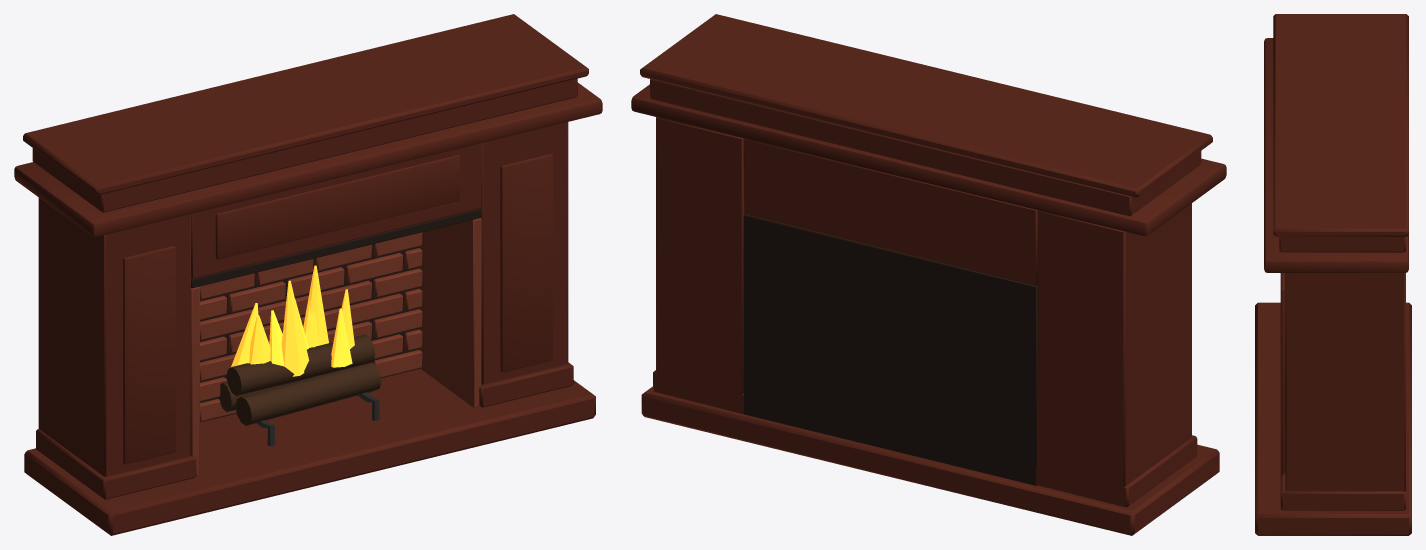
The model's file is Fireplace.glb.
3 views of the same model, side by side, from view 1: azimuth 30°, elevation 25°; view 2: azimuth 150°, elevation 25°; view 3: azimuth 270°, elevation 25° (orthographic). The views are drawn at different scales.
Visible parts, largest first — view 1: Fireplace_Body, Fireplace_Bricks, Fireplace_Logs, Fireplace_Fire, Fireplace_Back; view 2: Fireplace_Body, Fireplace_Back; view 3: Fireplace_Body.
Part boxes in pixels (bbox=[...]): Fireplace_Body: bbox=[14, 14, 602, 535]; Fireplace_Bricks: bbox=[191, 218, 481, 475]; Fireplace_Logs: bbox=[218, 334, 381, 425]; Fireplace_Fire: bbox=[231, 265, 354, 376]; Fireplace_Back: bbox=[191, 209, 481, 422]; Fireplace_Body: bbox=[631, 14, 1226, 535]; Fireplace_Back: bbox=[743, 215, 1037, 485]; Fireplace_Body: bbox=[1255, 14, 1411, 535].
Size of the model in its own units: 1.76 by 1.13 by 0.52.
